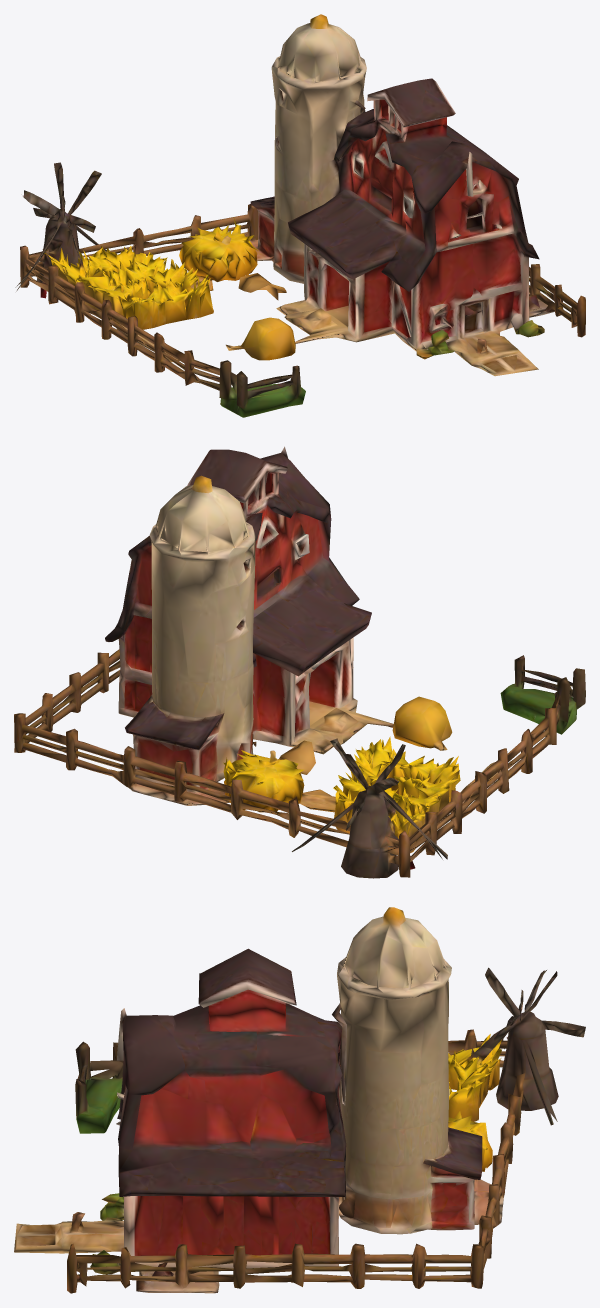
Rendered from prop_farm.glb.
3 renders of one model, top to bottom at view 1: azimuth 30°, elevation 25°; view 2: azimuth 150°, elevation 25°; view 3: azimuth 270°, elevation 25°, orthographic. The views are drawn at different scales.
Parts seen in each view (by area): view 1: tripo_node_71c3abaf-c6bc-41ae-851b-2ea280f4c663; view 2: tripo_node_71c3abaf-c6bc-41ae-851b-2ea280f4c663; view 3: tripo_node_71c3abaf-c6bc-41ae-851b-2ea280f4c663.
Part boxes in pixels (left/top/right/bottom): tripo_node_71c3abaf-c6bc-41ae-851b-2ea280f4c663: left=15, top=14, right=585, bottom=417; tripo_node_71c3abaf-c6bc-41ae-851b-2ea280f4c663: left=14, top=446, right=585, bottom=878; tripo_node_71c3abaf-c6bc-41ae-851b-2ea280f4c663: left=14, top=907, right=585, bottom=1293.
Bounding box in the file's own units: 0.9514 × 0.5968 × 0.9769.
1 material, 1 textured.
